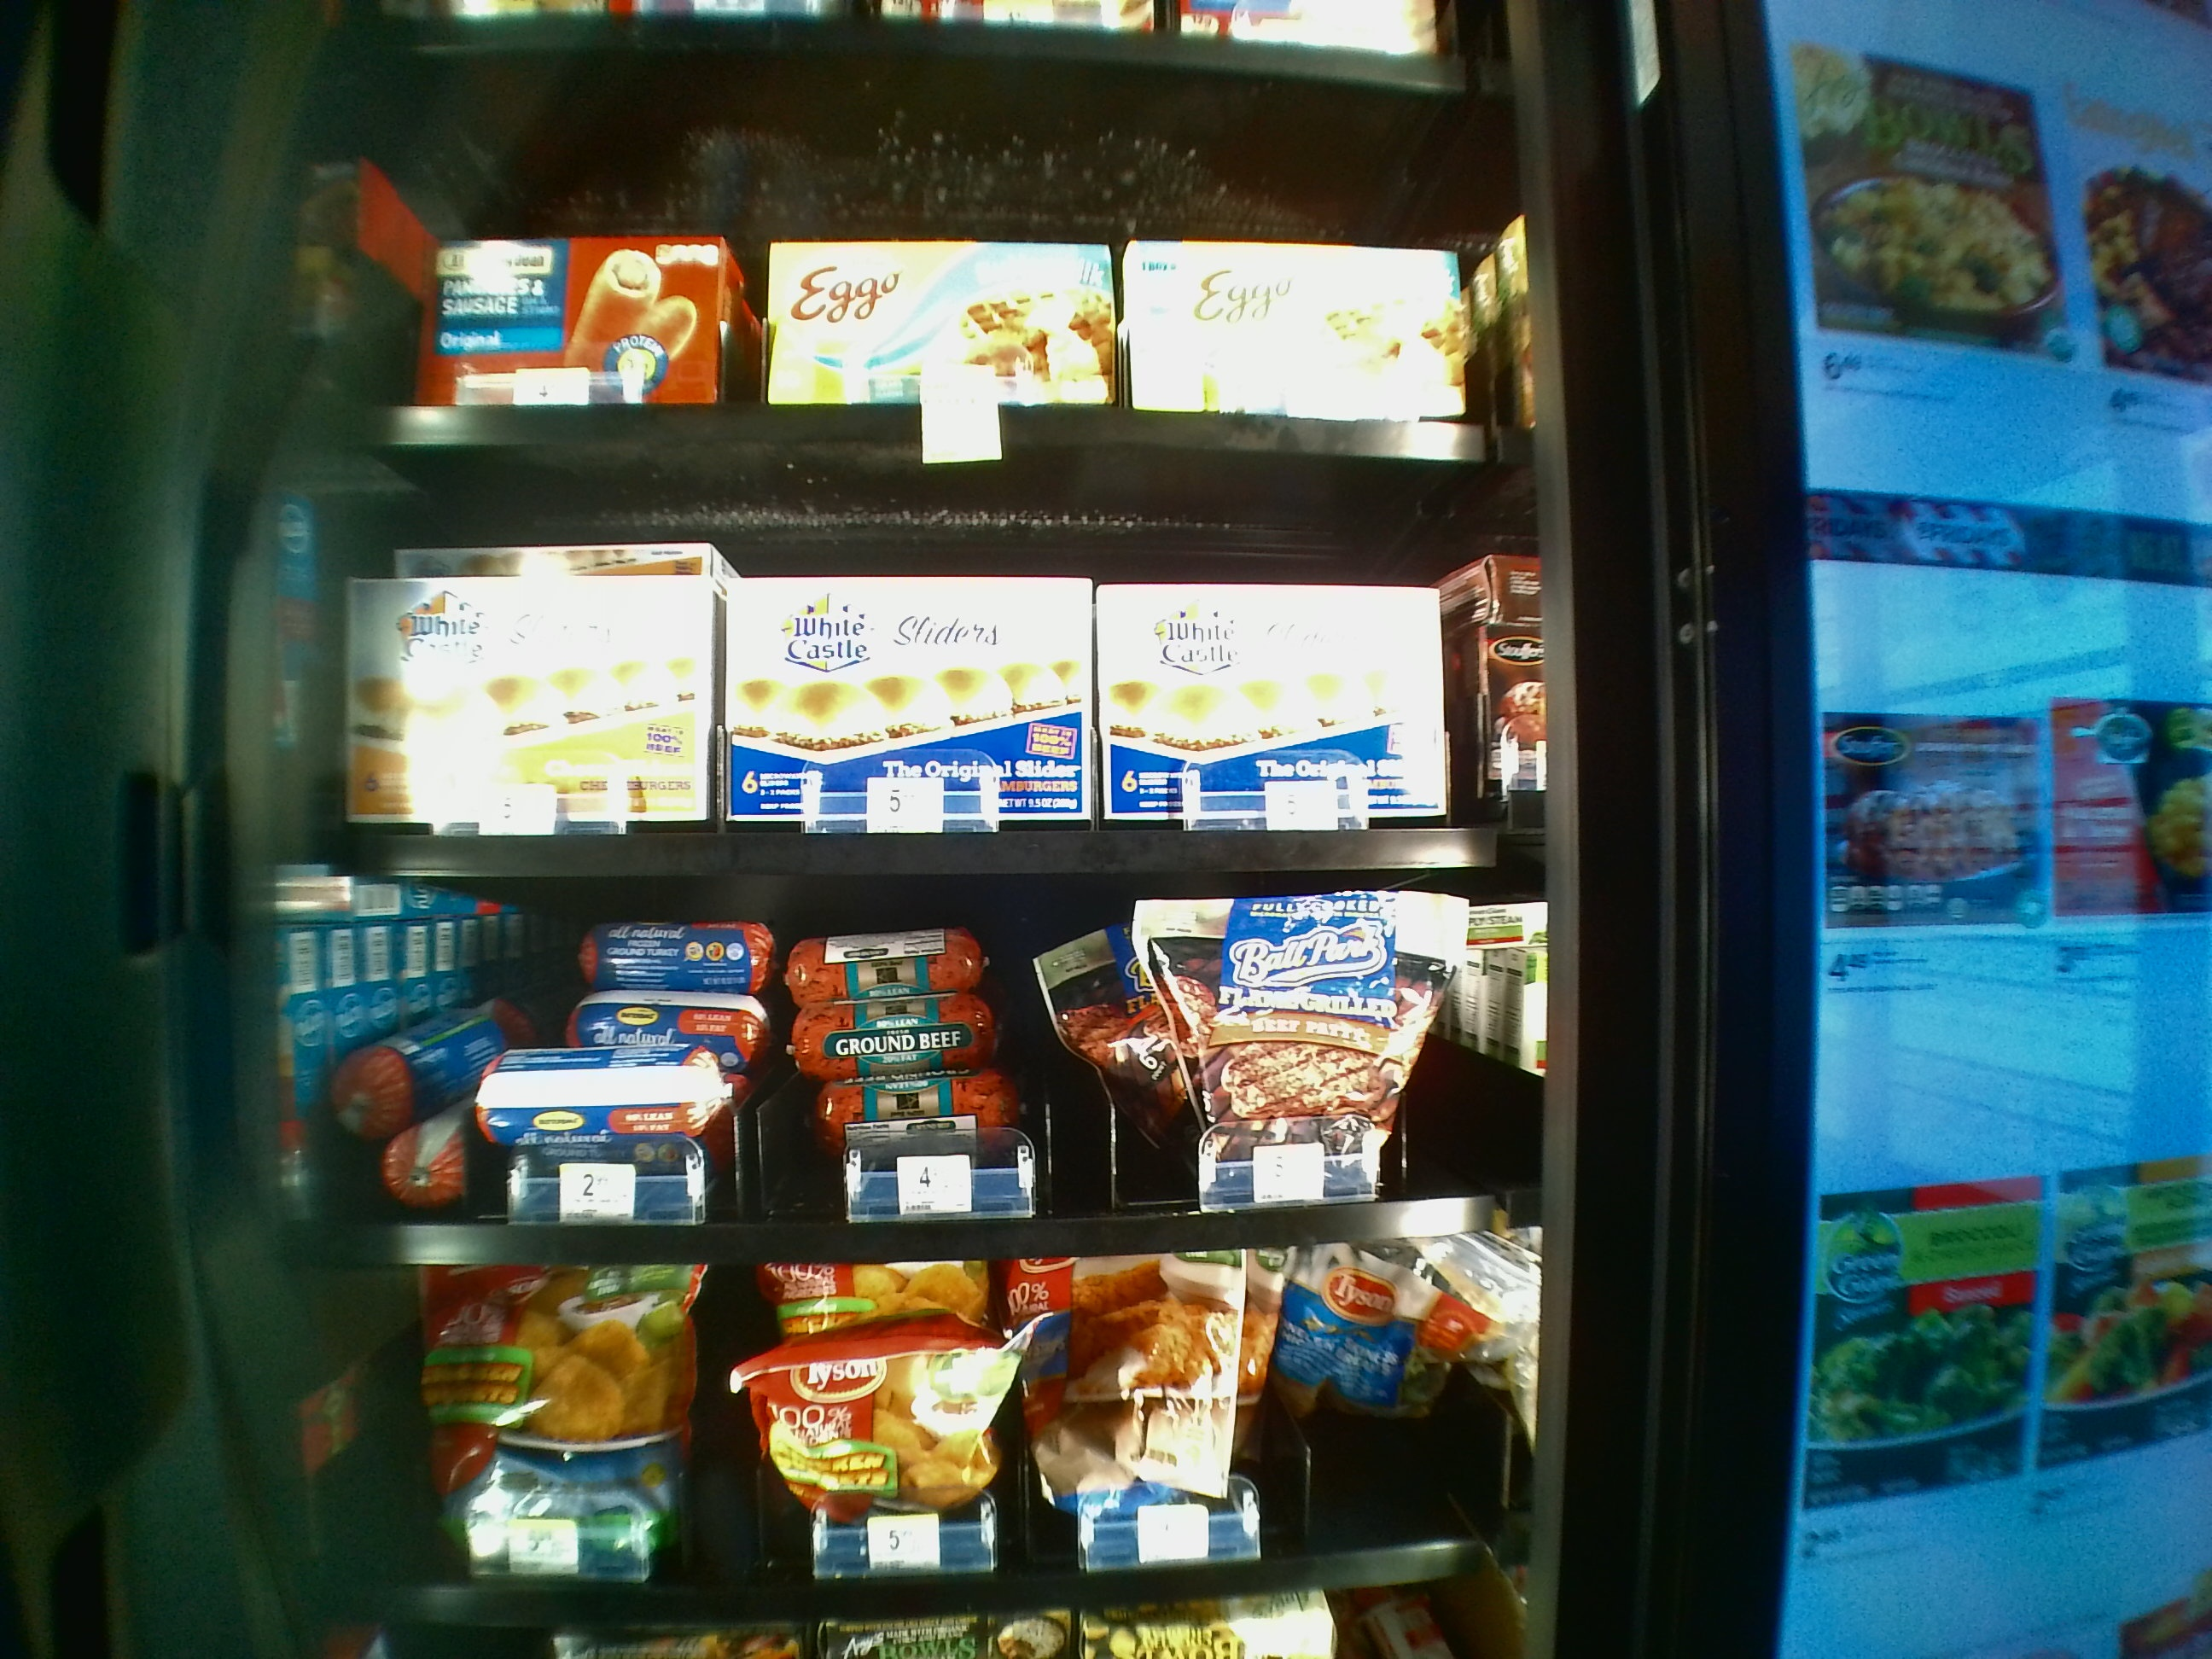shelf: (303, 446, 1526, 871), (303, 887, 1541, 1270)
